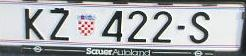-: (177, 24, 186, 31)
2: (129, 11, 147, 43), (153, 12, 171, 43)
4: (101, 10, 124, 43)
K: (24, 8, 45, 40)
S: (189, 12, 211, 44)
Z: (49, 7, 70, 42)
